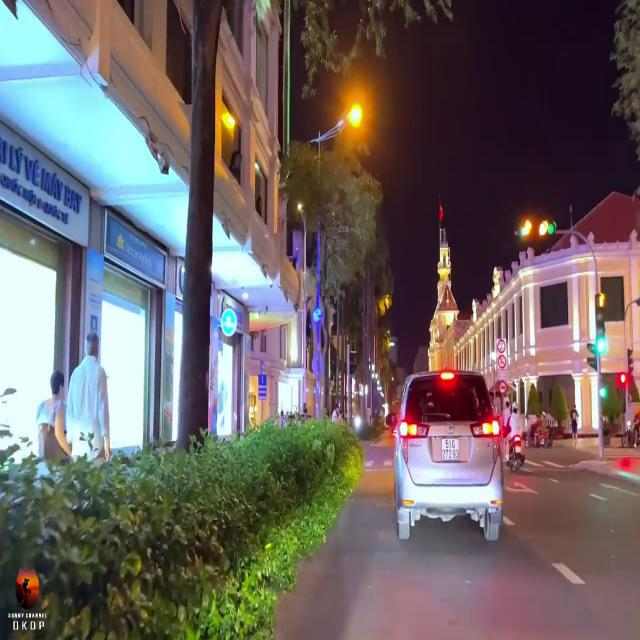bien_trang: (440, 437, 460, 463)
